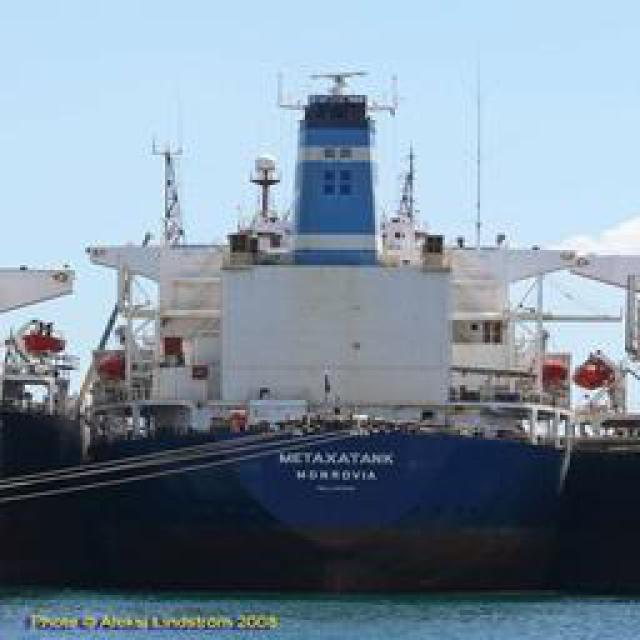Ship: (21, 56, 636, 586)
